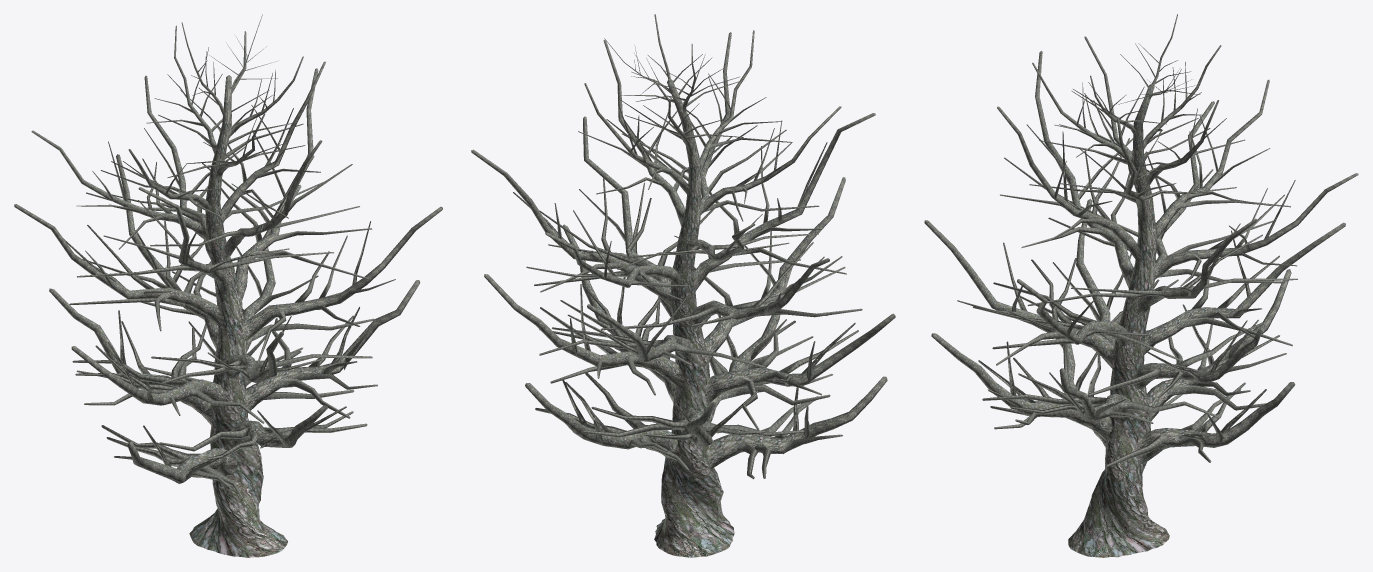
Rendered from tree.fbx.
3 views of the same model, side by side, from view 1: azimuth 30°, elevation 25°; view 2: azimuth 150°, elevation 25°; view 3: azimuth 270°, elevation 25° (orthographic). The views are drawn at different scales.
Visible parts, largest first — view 1: Tree_0; view 2: Tree_0; view 3: Tree_0.
Boxes of the visible parts, x1,y1,x2,y2 form: Tree_0: (14, 14, 442, 557); Tree_0: (471, 14, 895, 557); Tree_0: (924, 14, 1358, 557).
Size of the model in its own units: 173 by 247 by 190.
1 material, 1 textured.
